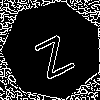Z: (27, 25, 76, 80)
